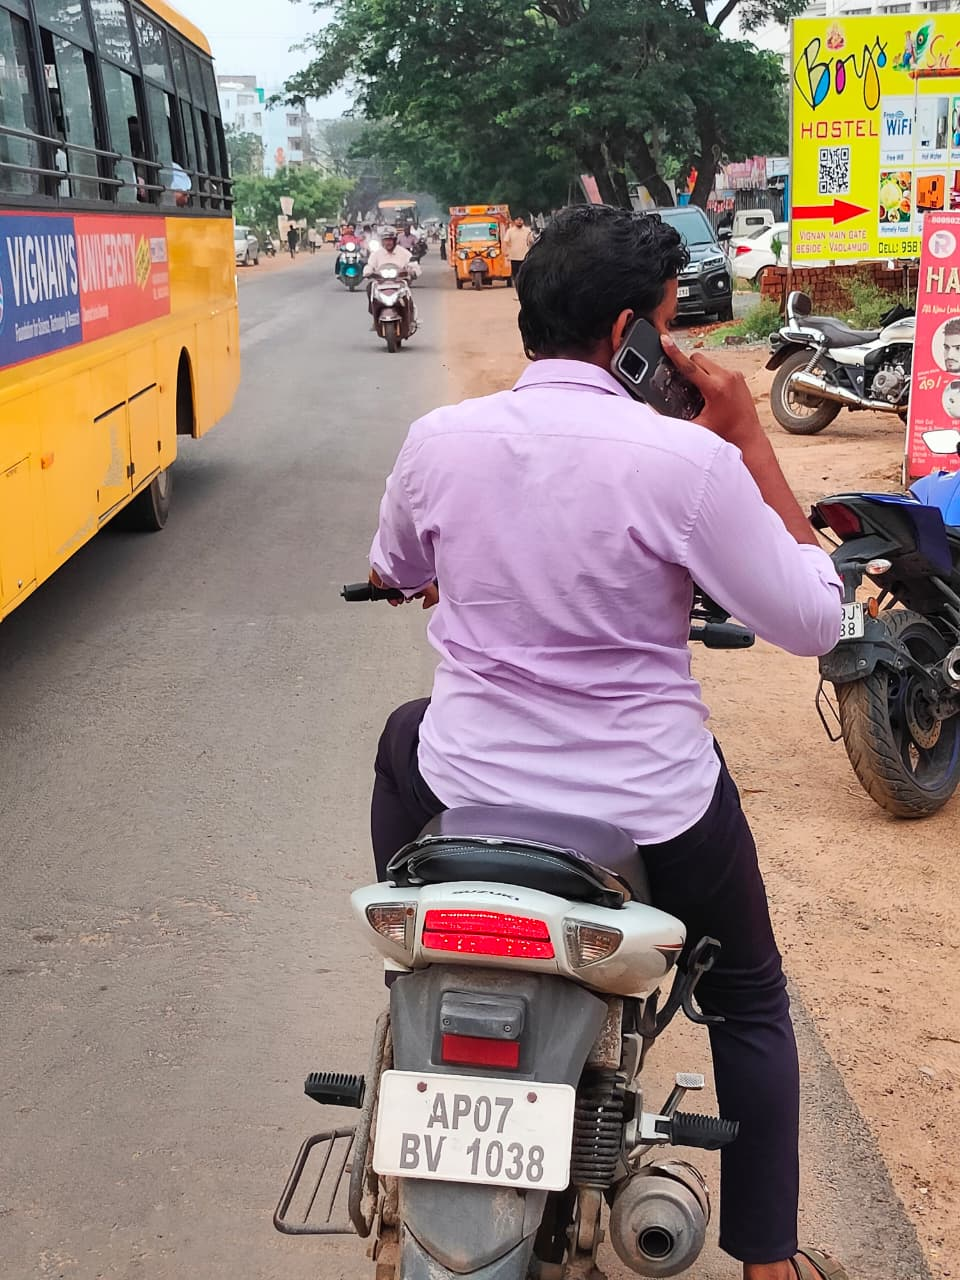mobile_usage: (591, 306, 768, 455)
no_helmet: (491, 194, 695, 402)
number_plate: (356, 1049, 572, 1202)
